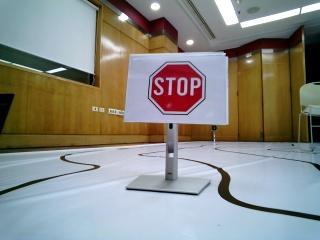stop: (127, 57, 221, 123)
